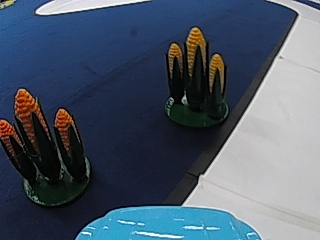corn: (2, 84, 94, 201), (161, 21, 232, 127)
